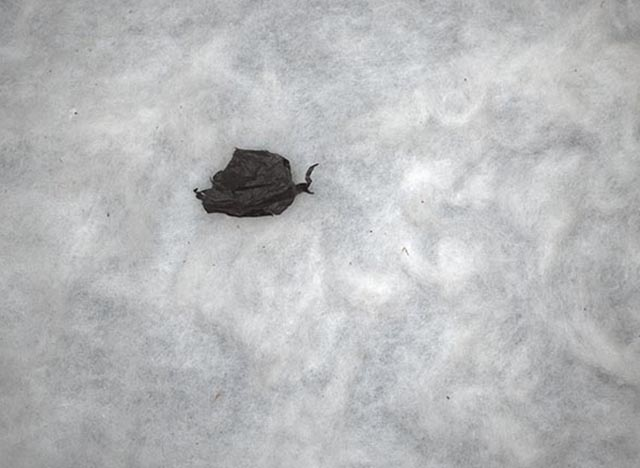plastic film: (193, 146, 319, 218)
